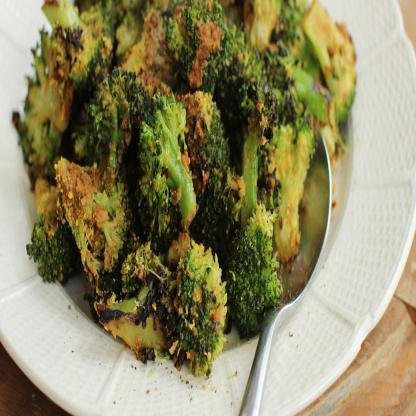broccoli: (9, 0, 358, 373)
